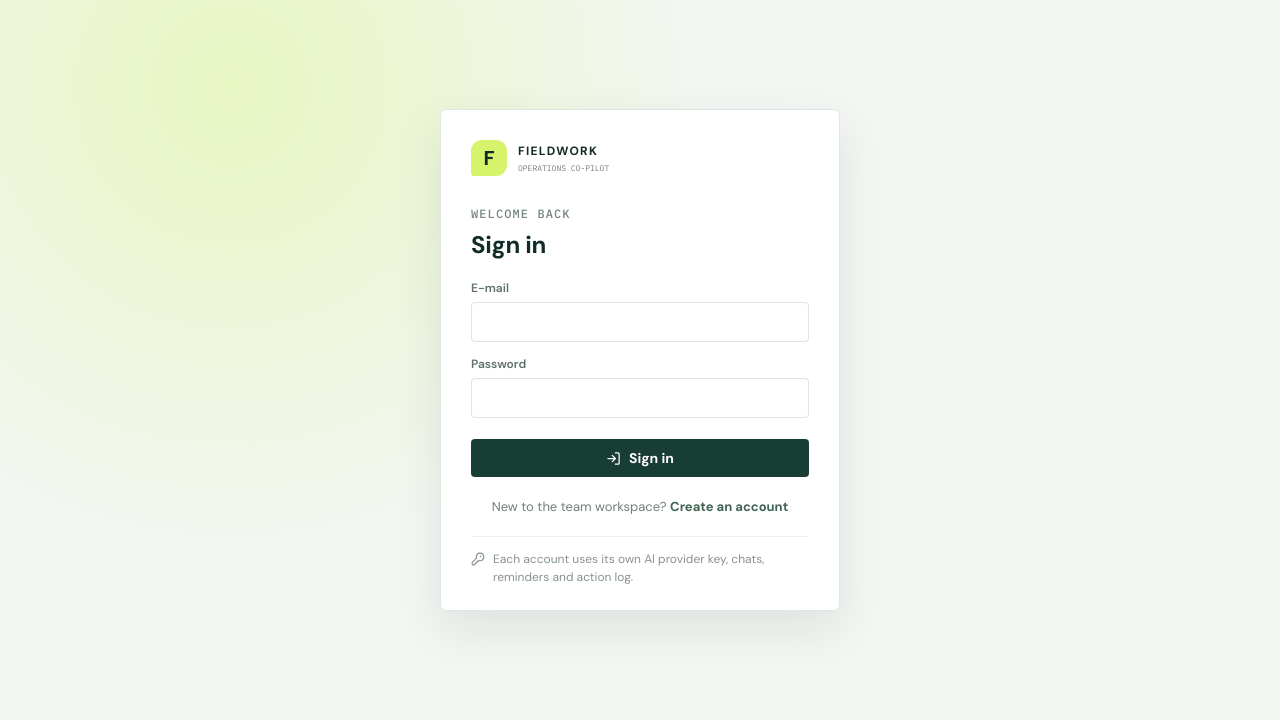
Test: sign-in gate › enters the workspace right after a successful sign-in, and leaves it on sign-out
The width and height of the screenshot is (1280, 720).
Type "gm@example.com" into the field labelled "E-mail" at {"x": 640, "y": 322}, box [471, 302, 809, 342]
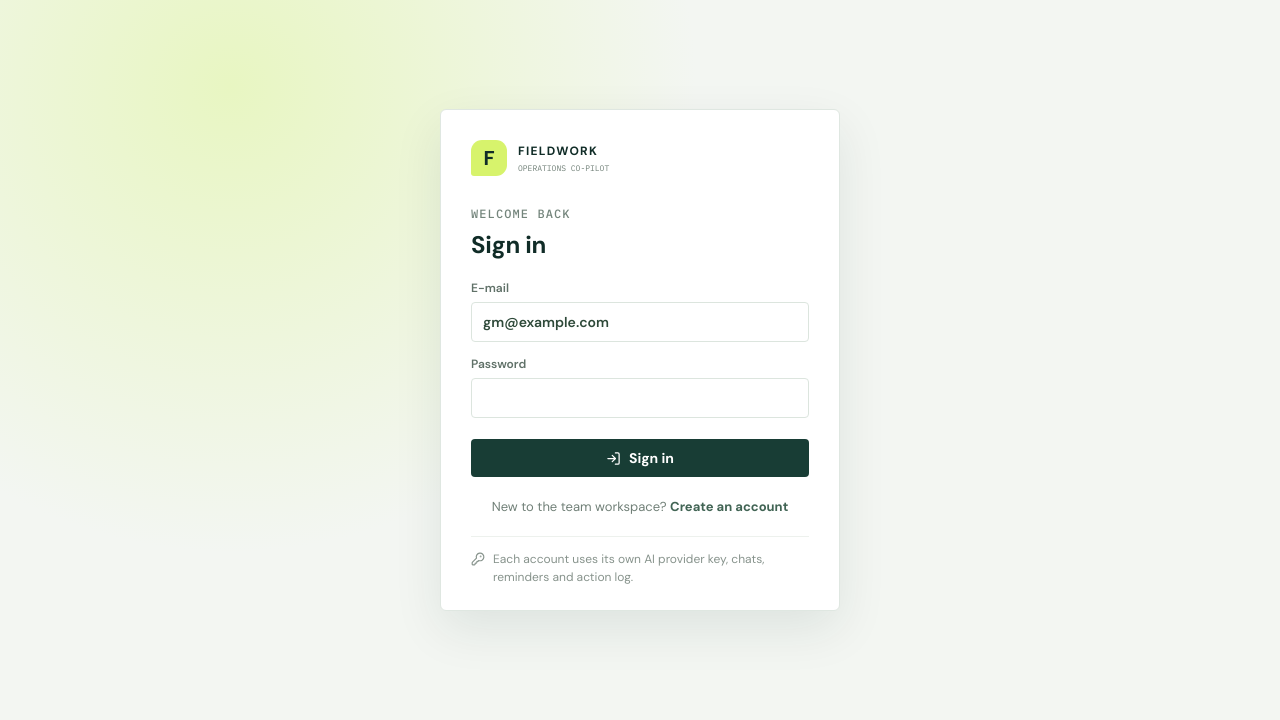
Type "long enough 1" into the password field labelled "Password" at {"x": 640, "y": 398}, box [471, 378, 809, 418]
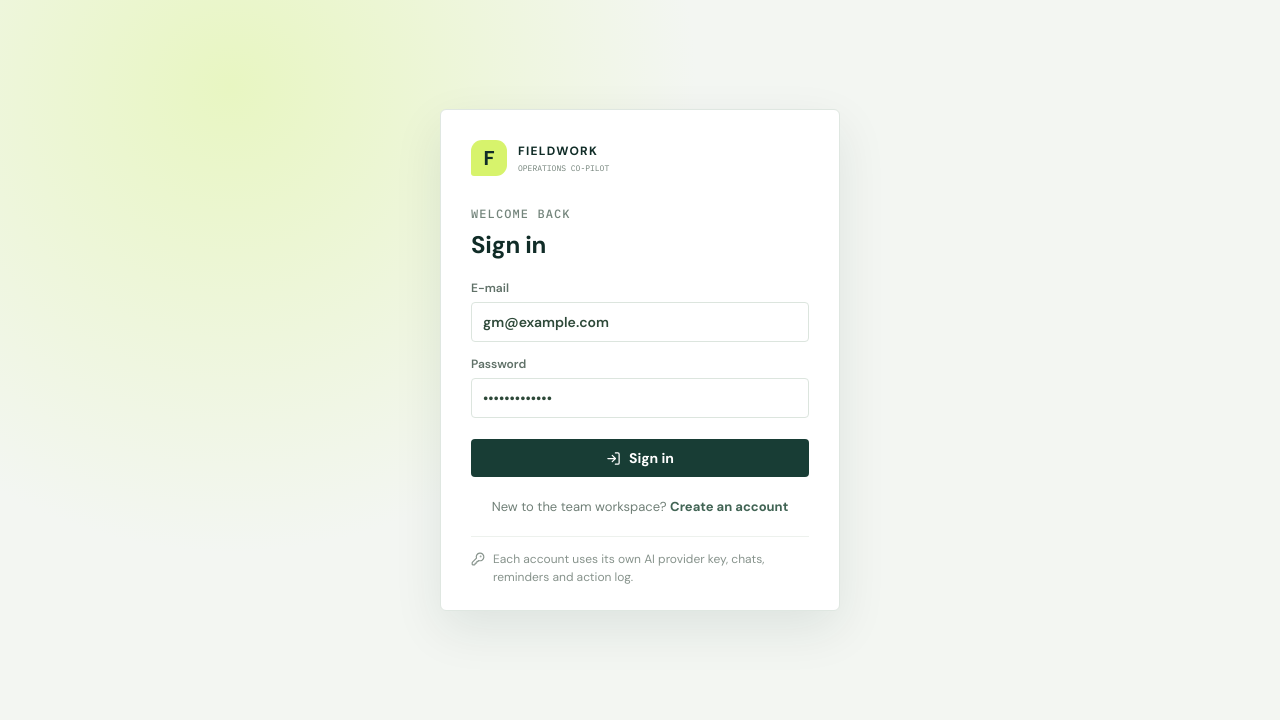
Click the button "Sign in" at {"x": 640, "y": 458}, box [471, 439, 809, 477]
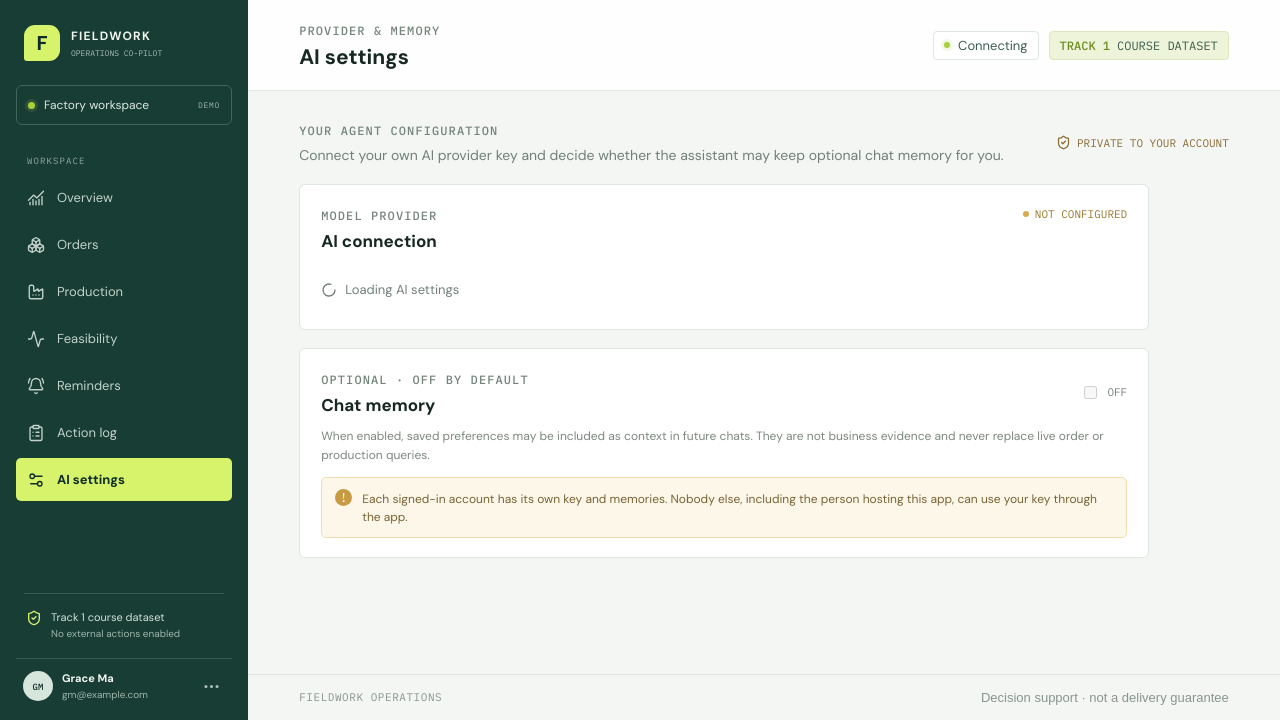
Expected: the text "Grace Ma" is shown, [62, 671, 114, 685]
Click the button named "Account options" at {"x": 210, "y": 686}, box [195, 671, 225, 701]
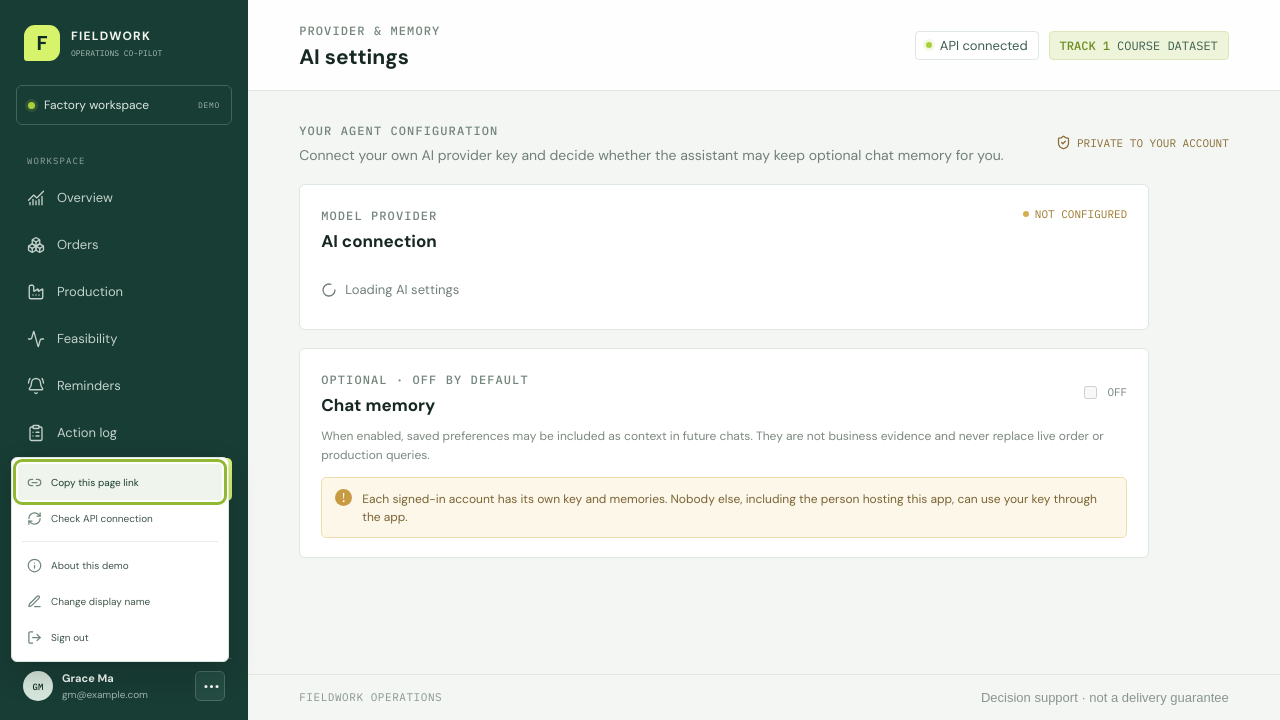
Click the menu item "Sign out" at {"x": 120, "y": 637}, box [18, 619, 222, 655]
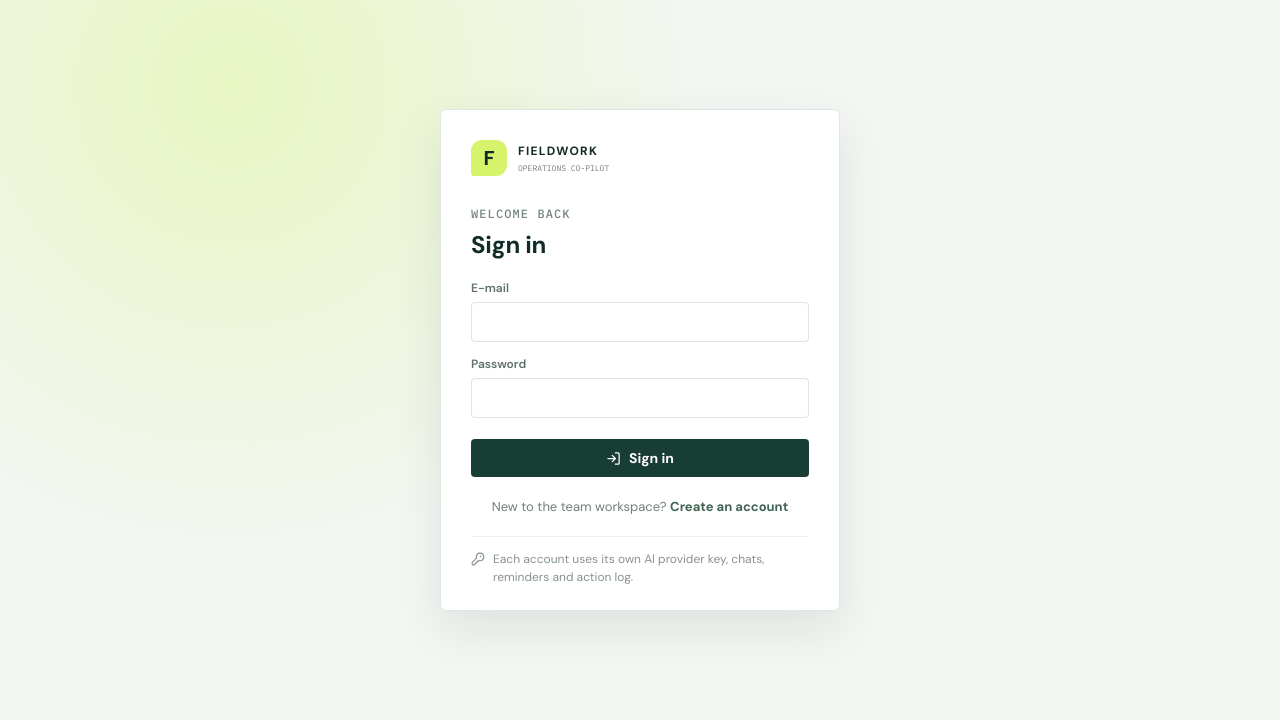
Expected: the heading "Sign in" is shown, [471, 229, 546, 260]
